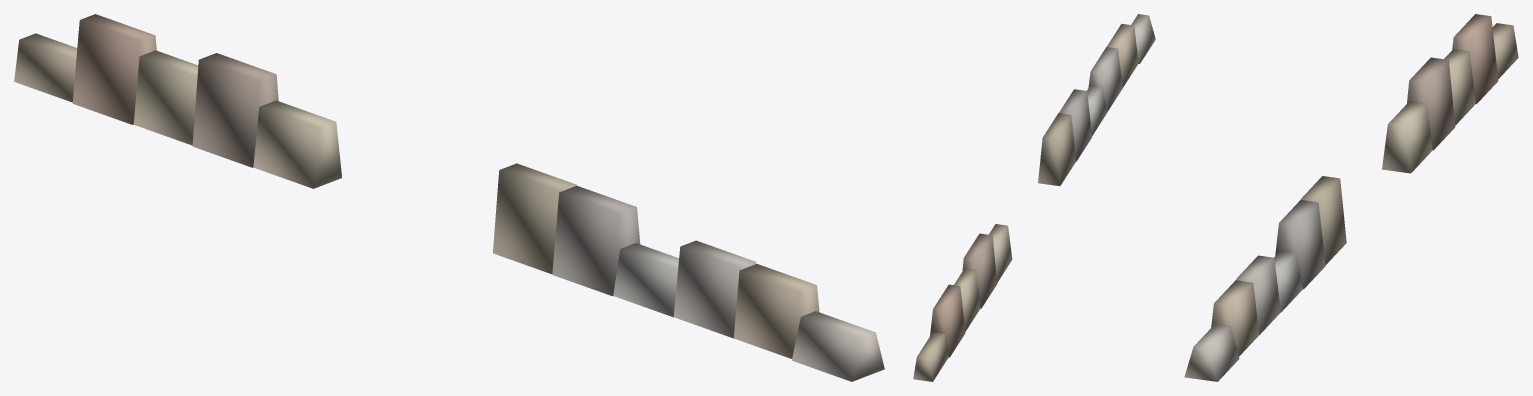
Rendered from farm_-9_0_collision.glb.
The picture shows the model from 3 angles, left to right: view 1: azimuth 30°, elevation 25°; view 2: azimuth 150°, elevation 25°; view 3: azimuth 330°, elevation 25°; orthographic projection. The views are drawn at different scales.
Visible parts, largest first — view 1: geometry_0; view 2: geometry_0; view 3: geometry_0.
Boxes of the visible parts, x1,y1,x2,y2 form: geometry_0: (14,14,884,381); geometry_0: (913,14,1155,381); geometry_0: (1184,14,1518,381).
Bounding box in the file's own units: 5.05 × 2.82 × 20.6.
